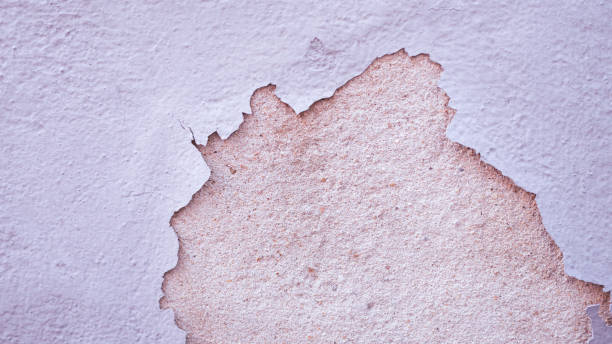wall_peeling: (158, 45, 612, 344)
